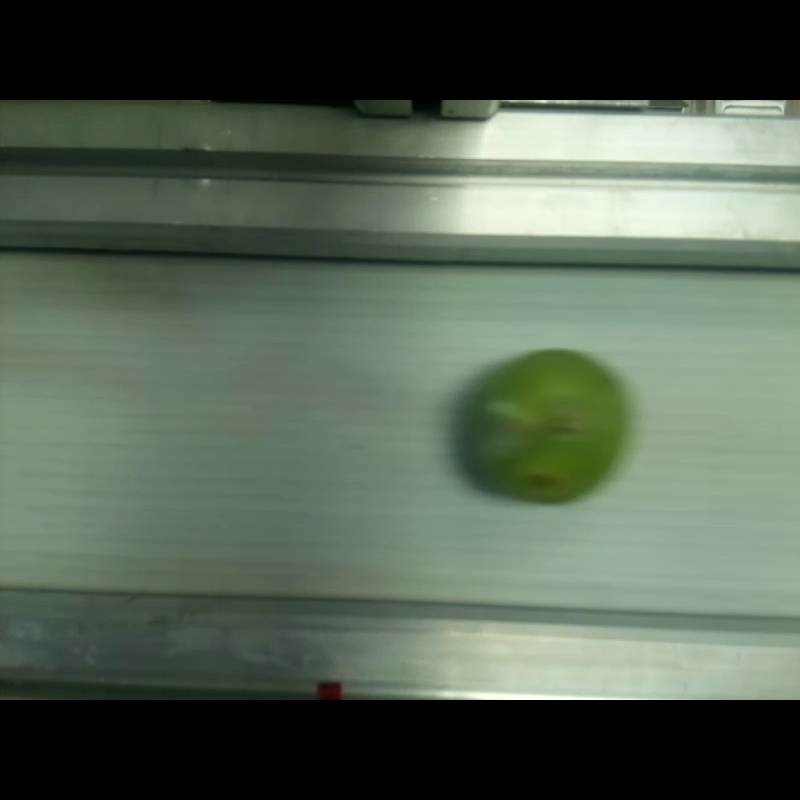lime: (466, 349, 615, 499)
